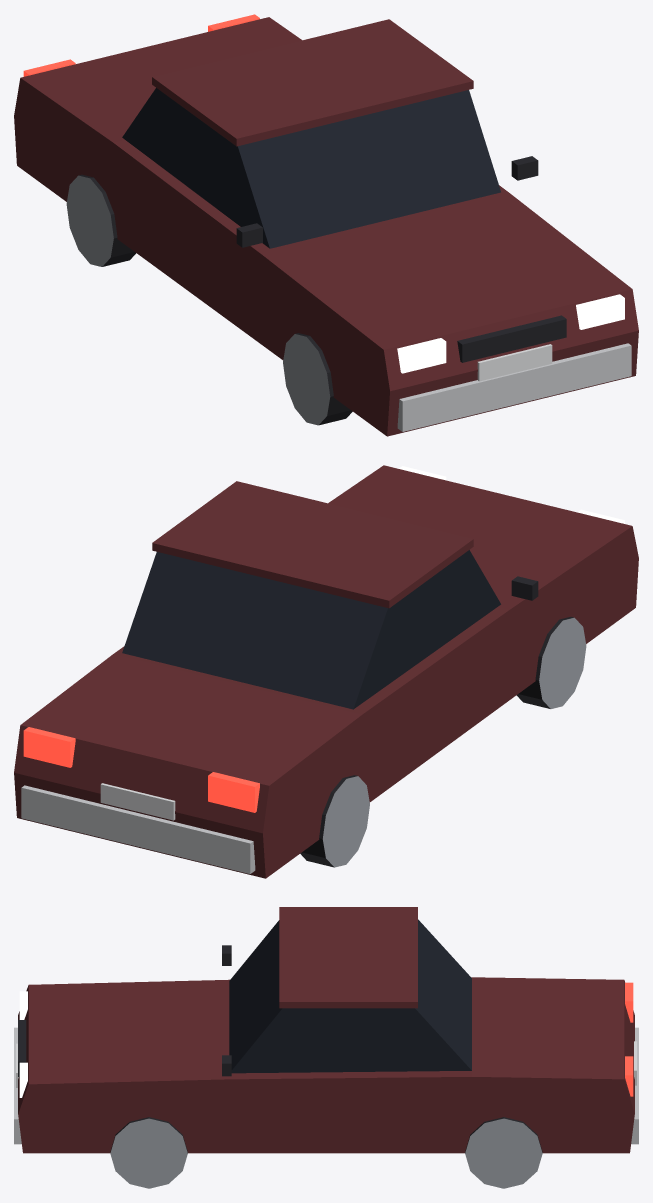
File: dret_90.glb
The picture shows the model from 3 angles, top to bottom: view 1: azimuth 30°, elevation 25°; view 2: azimuth 150°, elevation 25°; view 3: azimuth 270°, elevation 25°; orthographic projection. The views are drawn at different scales.
Visible parts, largest first — view 1: dret_90, wheel_RR, wheel_FR; view 2: dret_90, wheel_FR, wheel_RR; view 3: dret_90, wheel_FL, wheel_RL.
Boxes of the visible parts, x1,y1,x2,y2 form: dret_90: [14, 14, 638, 436]; wheel_RR: [66, 174, 136, 266]; wheel_FR: [283, 333, 352, 425]; dret_90: [14, 465, 638, 878]; wheel_FR: [516, 617, 586, 708]; wheel_RR: [300, 775, 369, 867]; dret_90: [14, 907, 638, 1153]; wheel_FL: [110, 1117, 187, 1188]; wheel_RL: [465, 1117, 542, 1188].
Size of the model in its own units: 2.02 by 1.46 by 4.51.
